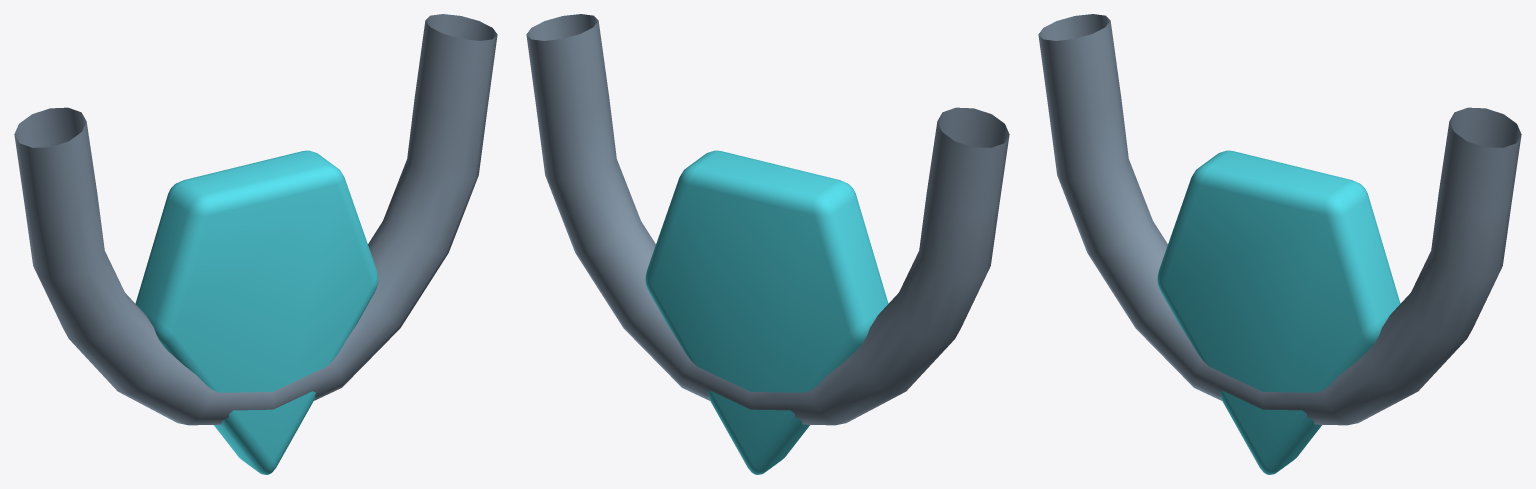
Rendered from necklace_v5.glb.
3 views of the same model, side by side, from view 1: azimuth 30°, elevation 25°; view 2: azimuth 150°, elevation 25°; view 3: azimuth 330°, elevation 25° (orthographic).
Parts seen in each view (by area): view 1: GORGET_PRIMARY, GORGET_FRONT_ACCENT; view 2: GORGET_PRIMARY, GORGET_FRONT_ACCENT; view 3: GORGET_PRIMARY, GORGET_FRONT_ACCENT.
Part boxes in pixels (x1,y1,x2,y2): GORGET_PRIMARY: [14, 14, 497, 425]; GORGET_FRONT_ACCENT: [135, 150, 378, 474]; GORGET_PRIMARY: [526, 14, 1009, 425]; GORGET_FRONT_ACCENT: [645, 150, 888, 474]; GORGET_PRIMARY: [1038, 14, 1521, 425]; GORGET_FRONT_ACCENT: [1157, 150, 1400, 474].
Size of the model in its own units: 2.07 by 1.67 by 0.28.
